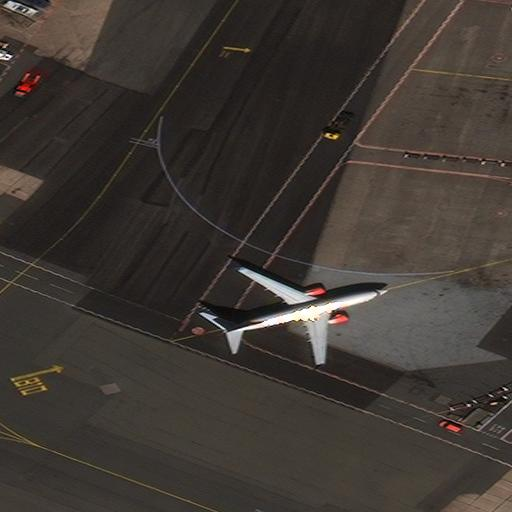Medium Civil Transport: (218, 263, 389, 363)
